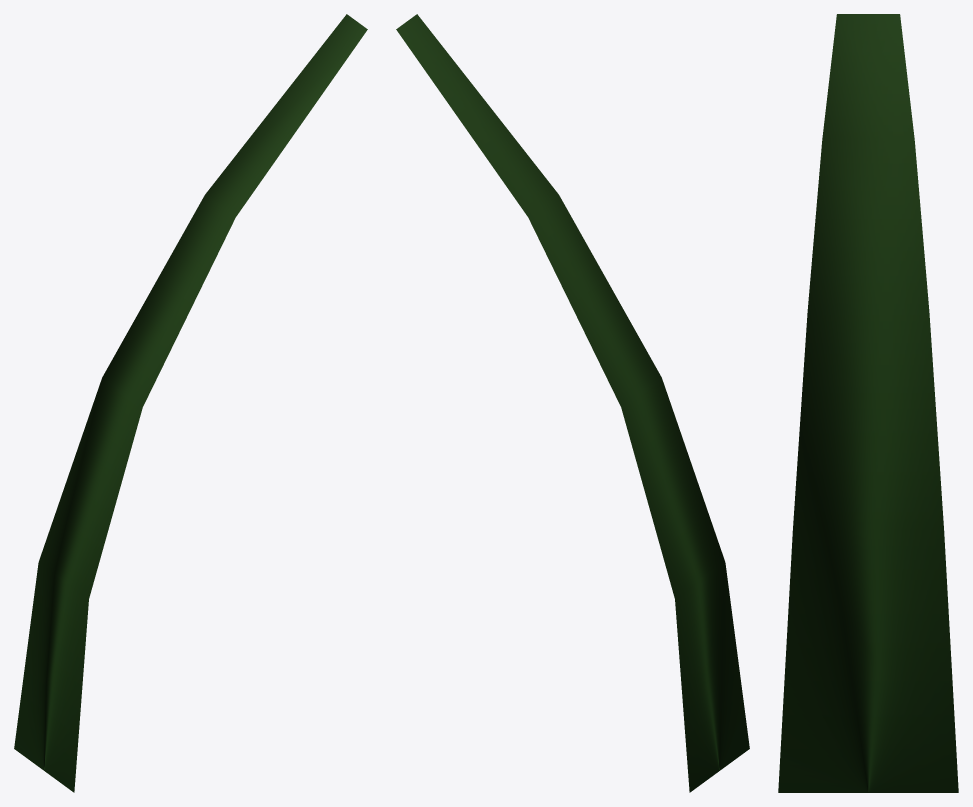
File: Blade_Shade_Curved.glb
3 views of the same model, side by side, from view 1: azimuth 30°, elevation 25°; view 2: azimuth 150°, elevation 25°; view 3: azimuth 270°, elevation 25° (orthographic). The views are drawn at different scales.
Parts seen in each view (by area): view 1: Blade_Shade_Curved; view 2: Blade_Shade_Curved; view 3: Blade_Shade_Curved.
Part boxes in pixels (left/top/right/bottom): Blade_Shade_Curved: left=14, top=14, right=367, bottom=792; Blade_Shade_Curved: left=396, top=14, right=749, bottom=792; Blade_Shade_Curved: left=778, top=14, right=958, bottom=792.
Size of the model in its own units: 0.06 by 0.1232 by 0.02.
